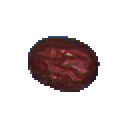gd: (15, 20, 114, 104)
